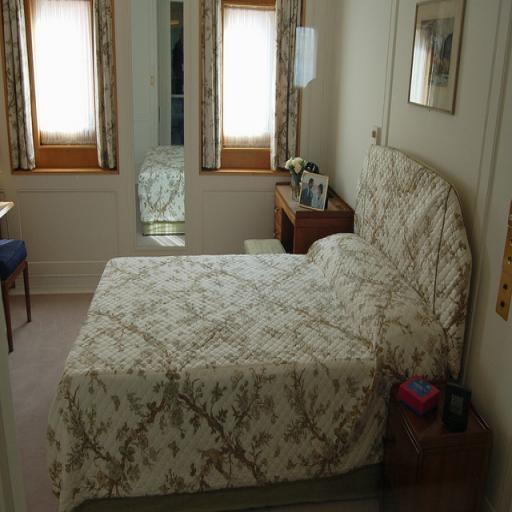bed: (42, 126, 500, 486)
